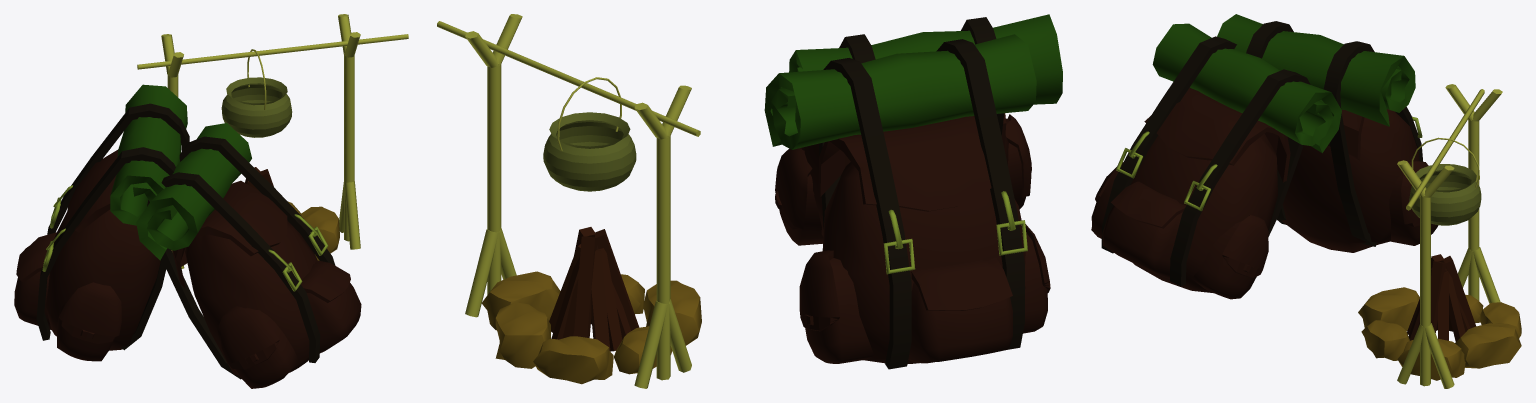
The model's file is SM_Camp.fbx.
3 renders of one model, left to right at view 1: azimuth 30°, elevation 25°; view 2: azimuth 150°, elevation 25°; view 3: azimuth 270°, elevation 25°, orthographic. The views are drawn at different scales.
Visible parts, largest first — view 1: Cylinder010; view 2: Cylinder010; view 3: Cylinder010.
Boxes of the visible parts, x1,y1,x2,y2 form: Cylinder010: [14, 14, 408, 388]; Cylinder010: [437, 14, 1062, 388]; Cylinder010: [1091, 14, 1521, 388].
Size of the model in its own units: 37.47 by 18.84 by 32.97.
